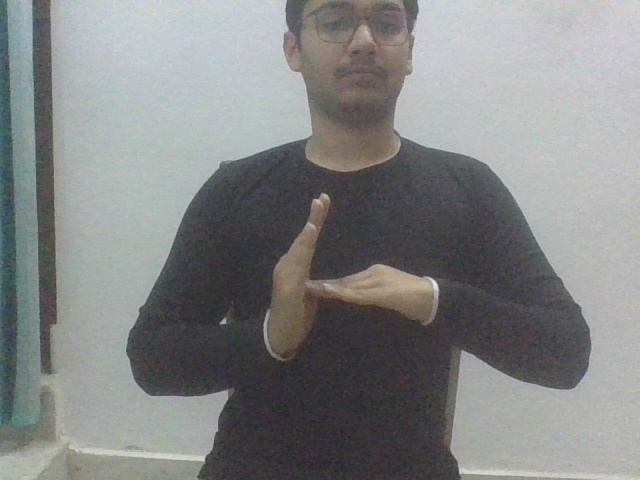Z: (264, 188, 440, 362)
